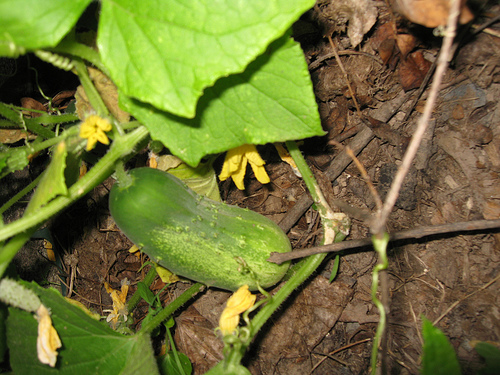cucumber: (105, 166, 291, 290)
